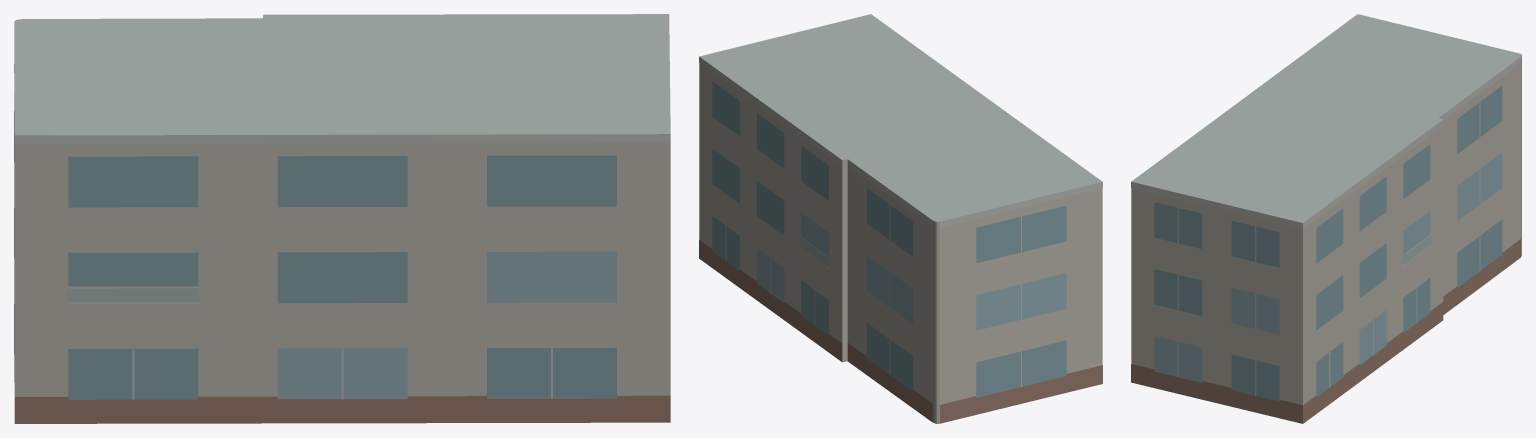
File: survey-upis-33007138.glb
3 views of the same model, side by side, from view 1: azimuth 30°, elevation 25°; view 2: azimuth 150°, elevation 25°; view 3: azimuth 270°, elevation 25° (orthographic). The views are drawn at different scales.
Parts seen in each view (by area): view 1: survey-upis-33007138.tmp; view 2: survey-upis-33007138.tmp; view 3: survey-upis-33007138.tmp.
Part boxes in pixels (left/top/right/bottom): survey-upis-33007138.tmp: left=14, top=14, right=670, bottom=423; survey-upis-33007138.tmp: left=699, top=14, right=1102, bottom=423; survey-upis-33007138.tmp: left=1131, top=14, right=1521, bottom=423.
Size of the model in its own units: 17.65 by 7.9 by 13.94.
